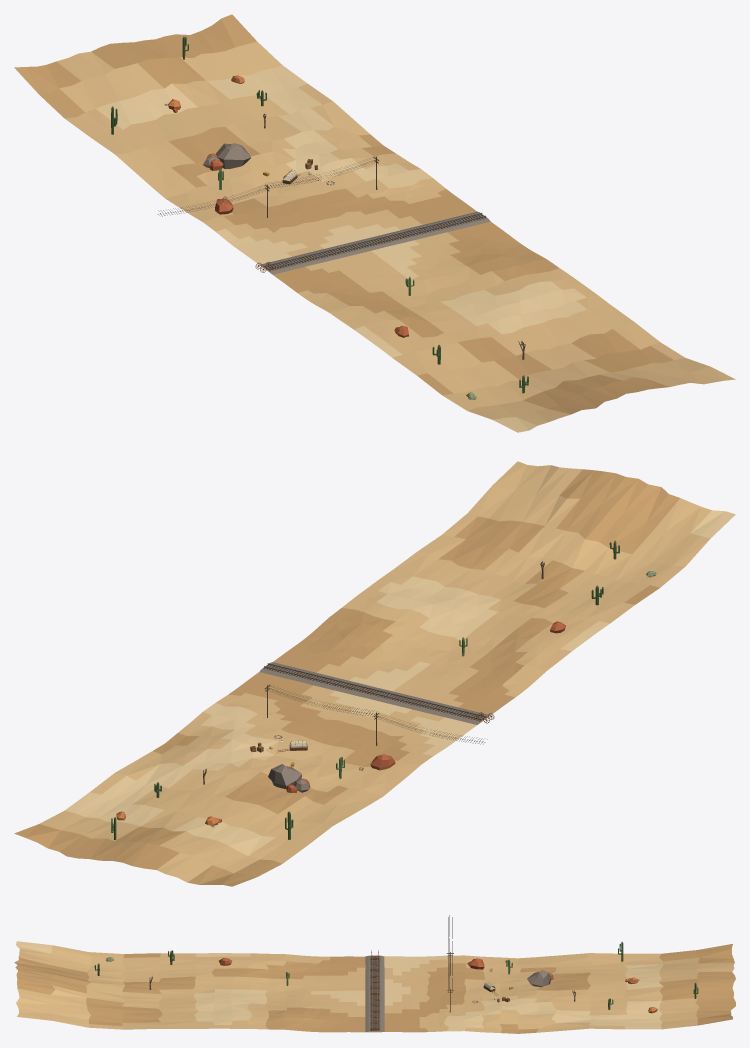
The model's file is SM_FG_Chunk_Landmark_Camp_A.fbx.
3 views of the same model, one above another, from view 1: azimuth 30°, elevation 25°; view 2: azimuth 150°, elevation 25°; view 3: azimuth 270°, elevation 25° (orthographic). The views are drawn at different scales.
Parts seen in each view (by area): view 1: FG_Chunk_Landmark_Camp_A_Ground, FG_Chunk_Landmark_Camp_A_SceneryNear, FG_Chunk_Landmark_Camp_A_Track; view 2: FG_Chunk_Landmark_Camp_A_Ground, FG_Chunk_Landmark_Camp_A_SceneryNear, FG_Chunk_Landmark_Camp_A_Track; view 3: FG_Chunk_Landmark_Camp_A_Ground, FG_Chunk_Landmark_Camp_A_SceneryNear, FG_Chunk_Landmark_Camp_A_Track.
Boxes of the visible parts, x1,y1,x2,y2 form: FG_Chunk_Landmark_Camp_A_Ground: (14,14,735,432); FG_Chunk_Landmark_Camp_A_SceneryNear: (111,36,528,399); FG_Chunk_Landmark_Camp_A_Track: (260,211,490,274); FG_Chunk_Landmark_Camp_A_Ground: (14,461,735,886); FG_Chunk_Landmark_Camp_A_SceneryNear: (111,540,656,839); FG_Chunk_Landmark_Camp_A_Track: (259,662,489,724); FG_Chunk_Landmark_Camp_A_Ground: (14,941,735,1033); FG_Chunk_Landmark_Camp_A_SceneryNear: (94,915,698,1013); FG_Chunk_Landmark_Camp_A_Track: (365,955,384,1031).
Bounding box in the file's own units: 6250 × 20160 × 821.
